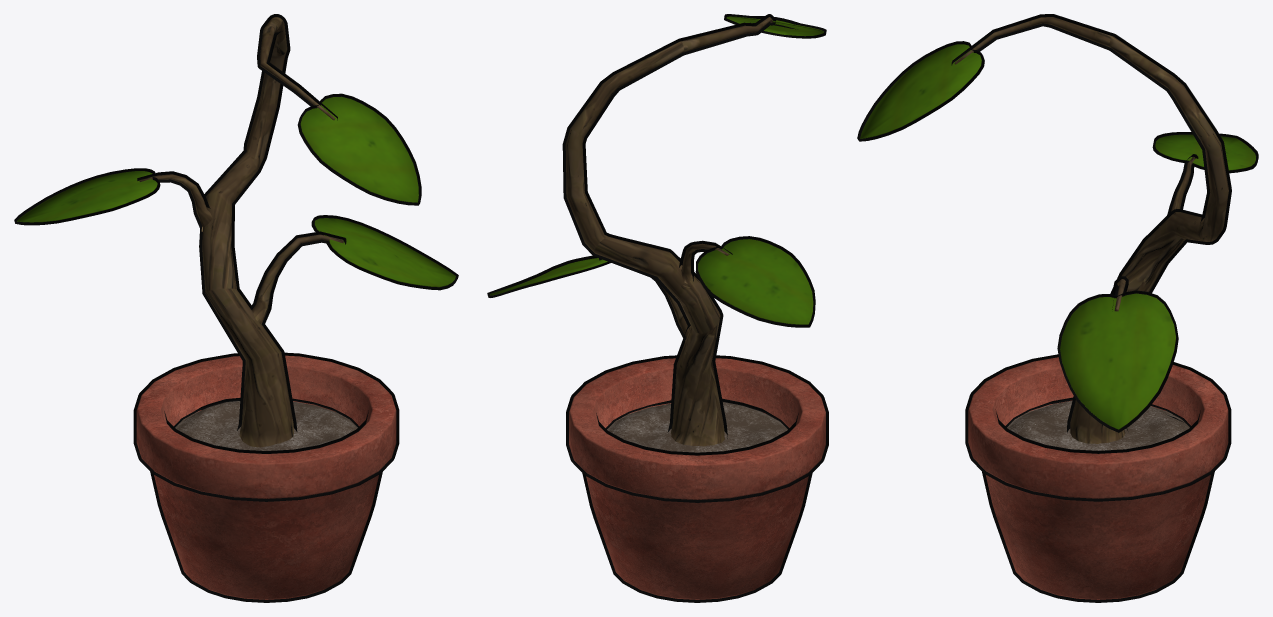
Rendered from potted_plant.glb.
The picture shows the model from 3 angles, left to right: view 1: azimuth 30°, elevation 25°; view 2: azimuth 150°, elevation 25°; view 3: azimuth 270°, elevation 25°; orthographic projection.
Parts seen in each view (by area): view 1: PottedPlant; view 2: PottedPlant; view 3: PottedPlant.
Boxes of the visible parts, left/top/right/bottom form: PottedPlant: left=14, top=14, right=458, bottom=602; PottedPlant: left=487, top=14, right=828, bottom=602; PottedPlant: left=857, top=14, right=1258, bottom=602.
Bounding box in the file's own units: 4.34 × 5.82 × 3.91.
Materials: 2 (1 with a texture image).
